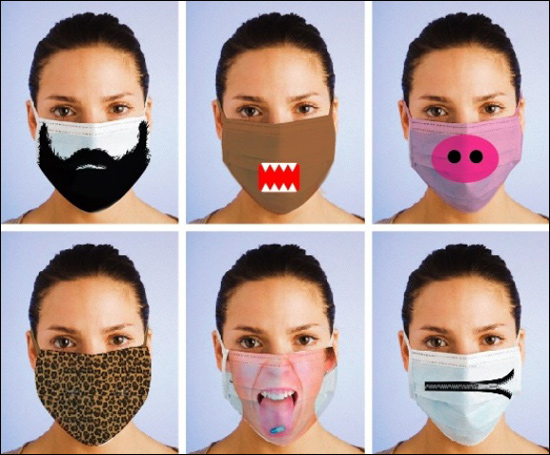face_mask: (218, 46, 334, 197), (33, 278, 147, 428), (406, 277, 520, 425), (33, 48, 146, 196), (406, 46, 519, 192), (223, 280, 330, 434)
